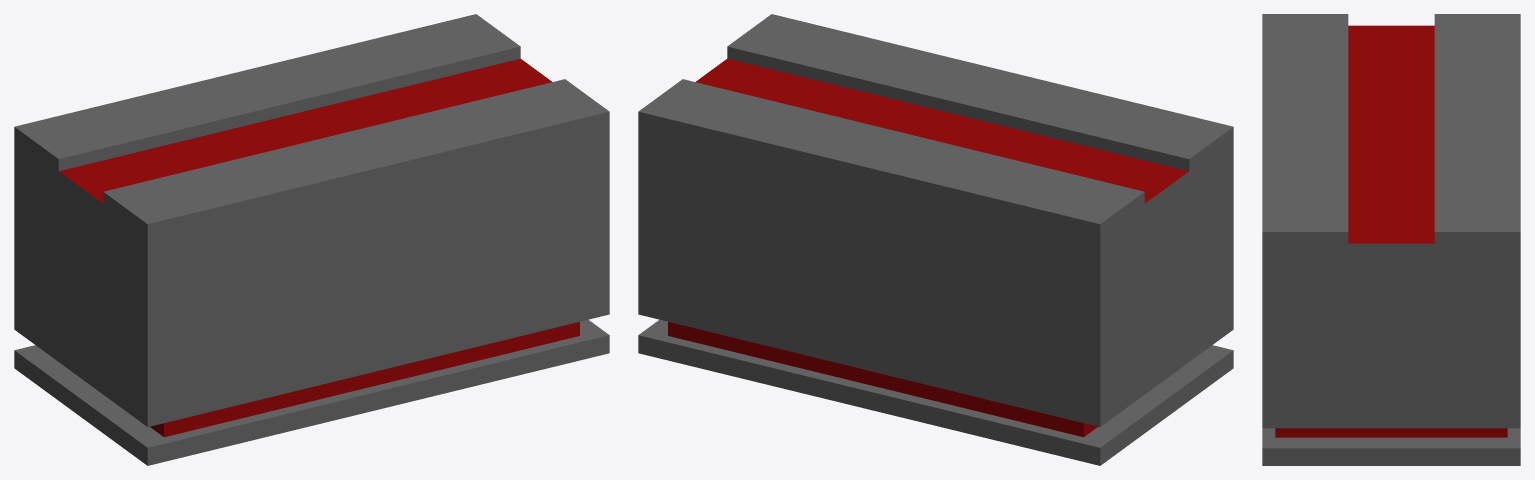
File: logic_function_1x2.glb
3 renders of one model, left to right at view 1: azimuth 30°, elevation 25°; view 2: azimuth 150°, elevation 25°; view 3: azimuth 270°, elevation 25°, orthographic. The views are drawn at different scales.
Visible parts, largest first — view 1: Cube; view 2: Cube; view 3: Cube.
Part boxes in pixels (x1,y1,x2,y2): Cube: [14, 14, 609, 465]; Cube: [638, 14, 1233, 465]; Cube: [1262, 14, 1520, 465].
Size of the model in its own units: 4 by 2 by 2.
